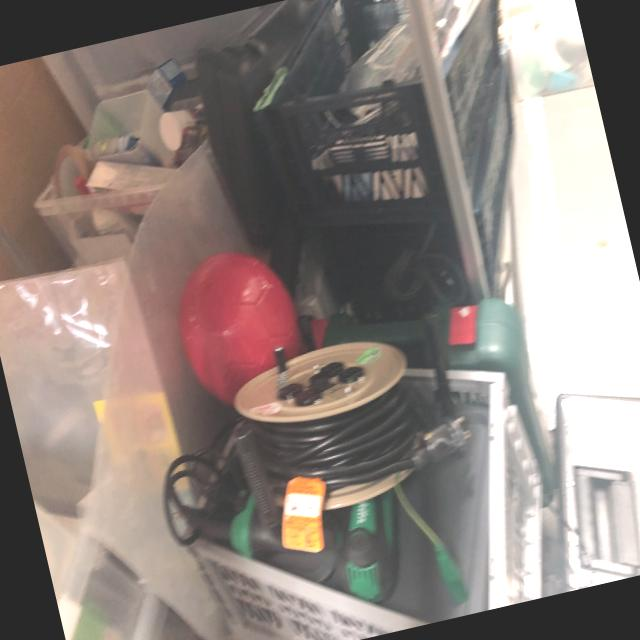red_ball: (164, 239, 316, 416)
